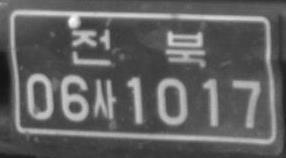0: (155, 76, 189, 126), (25, 72, 54, 121)
1: (198, 77, 225, 127), (123, 76, 148, 125)
6: (59, 73, 90, 122)
7: (231, 78, 260, 129)
사: (92, 77, 117, 120)
전북_D: (71, 27, 206, 69)
